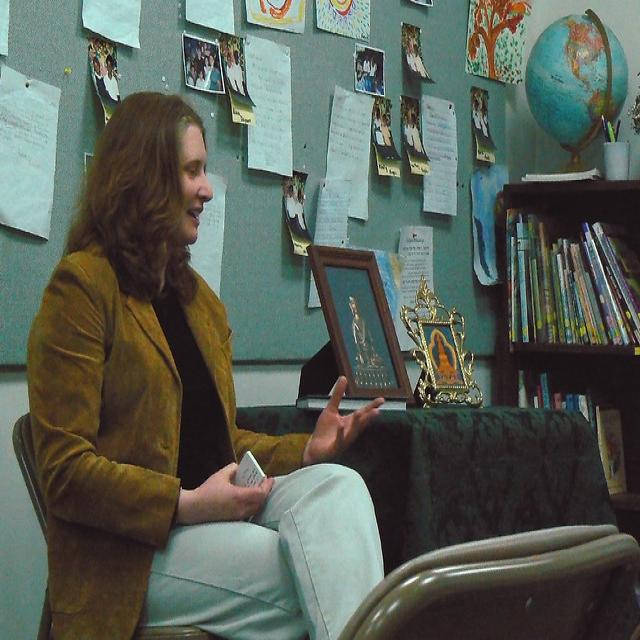Human hair: (84, 90, 223, 302)
book -group-: (504, 360, 640, 546), (501, 194, 638, 352)
bookcase: (493, 161, 640, 569), (586, 213, 639, 342)
clothing: (12, 213, 311, 640)
human arm: (8, 246, 278, 537), (198, 261, 382, 469)
human hand: (294, 363, 401, 468), (184, 446, 283, 534)
human leg: (214, 469, 391, 640), (151, 513, 302, 640)
shelf: (484, 146, 640, 551)
woman: (22, 69, 383, 640)
